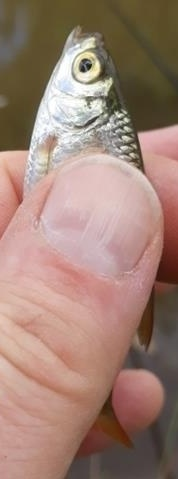Rutilus rutilus: (20, 20, 158, 459)
